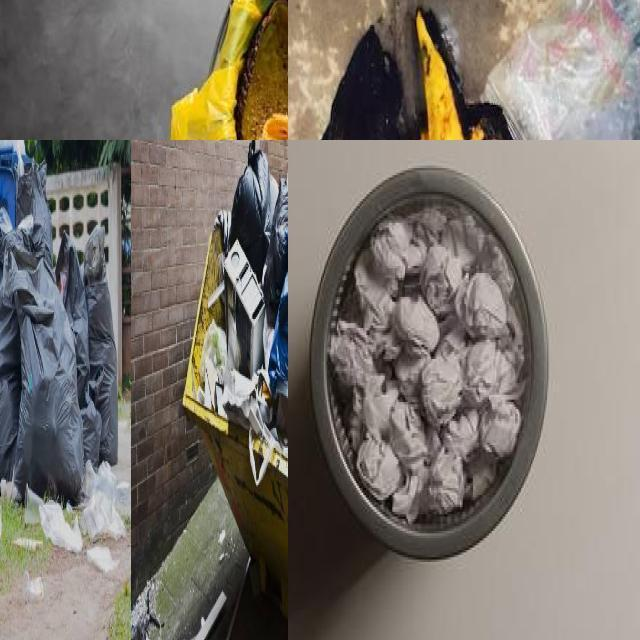E_waste: (225, 237, 264, 377)
Garbage: (288, 0, 640, 140), (0, 164, 118, 503), (191, 140, 288, 457)
Paper: (329, 203, 524, 525)
Plastic_Bag: (13, 260, 84, 501), (55, 233, 101, 471), (84, 223, 118, 464), (0, 205, 21, 482), (230, 140, 270, 281), (17, 159, 54, 276), (262, 182, 288, 324), (269, 272, 288, 398)
contaminated_waste: (484, 0, 640, 140)
top_view_waste: (325, 189, 529, 521)
